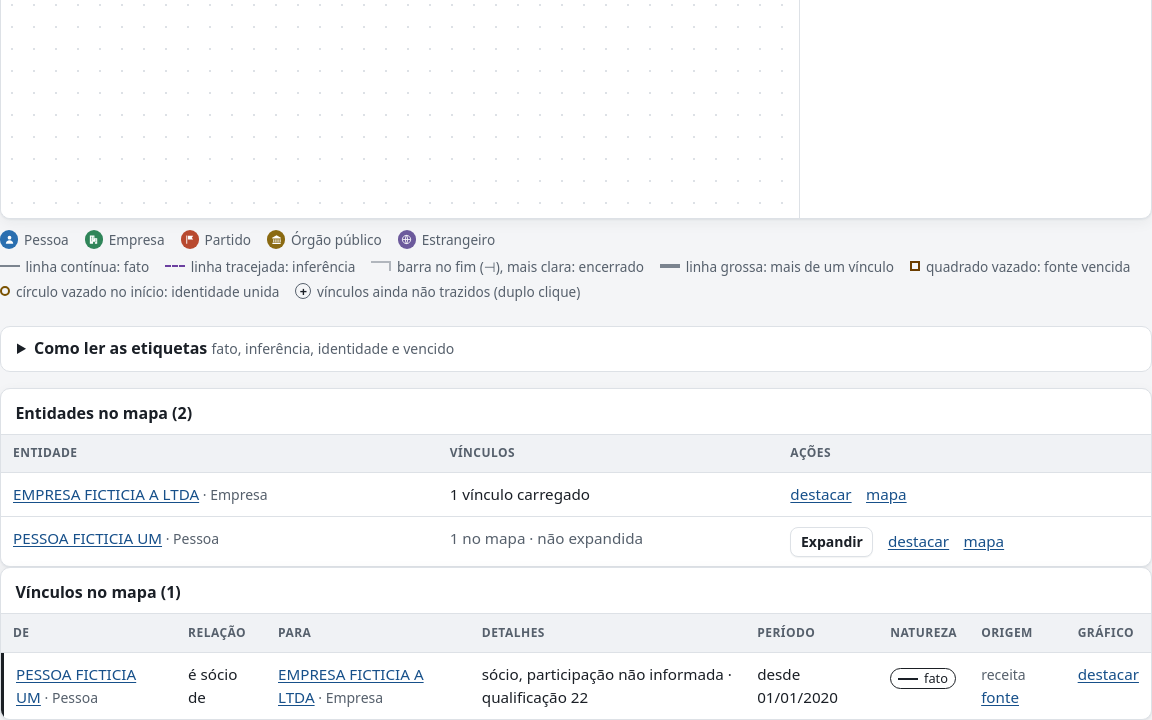
Test: MapPage › falha ao expandir um nó mantém o mapa e mostra o erro só desse nó
(page scrolled)
Expected: the link "PESSOA FICTICIA UM" in the row of "é sócio de" is shown, top-left (16, 664), bottom-right (136, 707)
Click the button with aria-label "Expandir PESSOA FICTICIA UM": (832, 542) top-left (790, 527), bottom-right (874, 557)
(page scrolled)
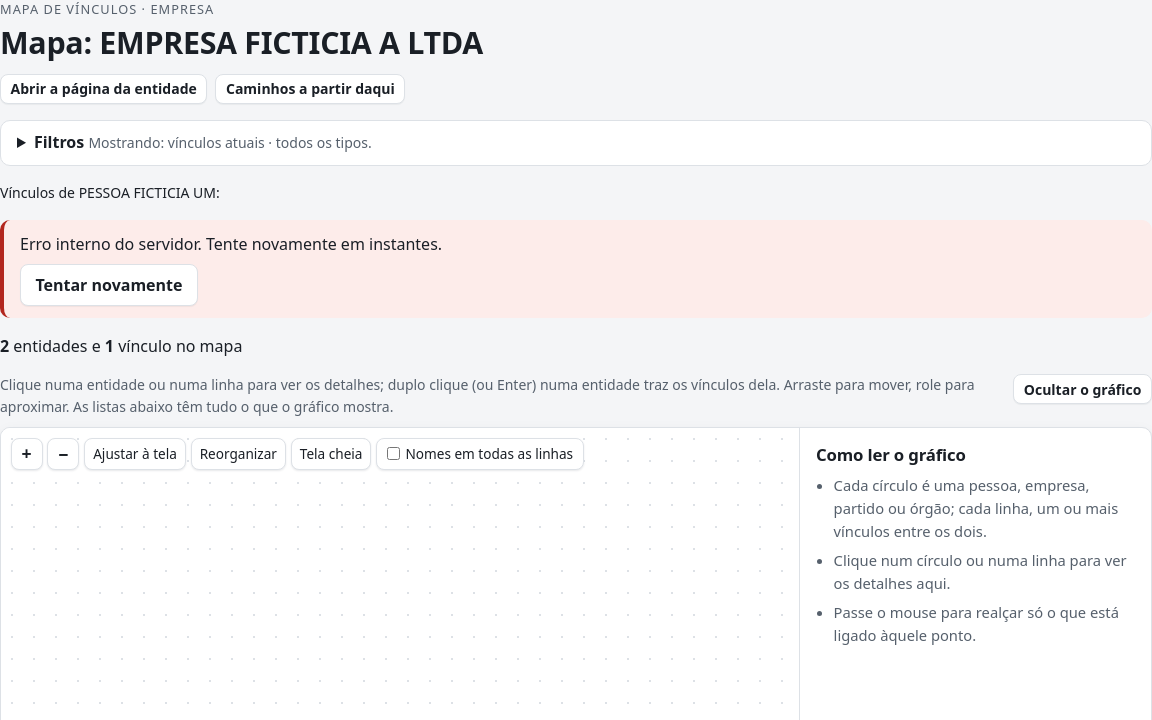
Result: the text "Vínculos de PESSOA FICTICIA UM:" is shown at top-left (0, 183), bottom-right (220, 202)
Result: the button "Tentar novamente" is shown at top-left (20, 264), bottom-right (198, 306)
